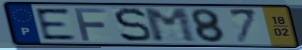7: (228, 7, 259, 45)
8: (190, 7, 227, 45)
E: (32, 7, 79, 42)
F: (72, 7, 109, 42)
M: (141, 7, 200, 44)
S: (112, 7, 154, 44)
